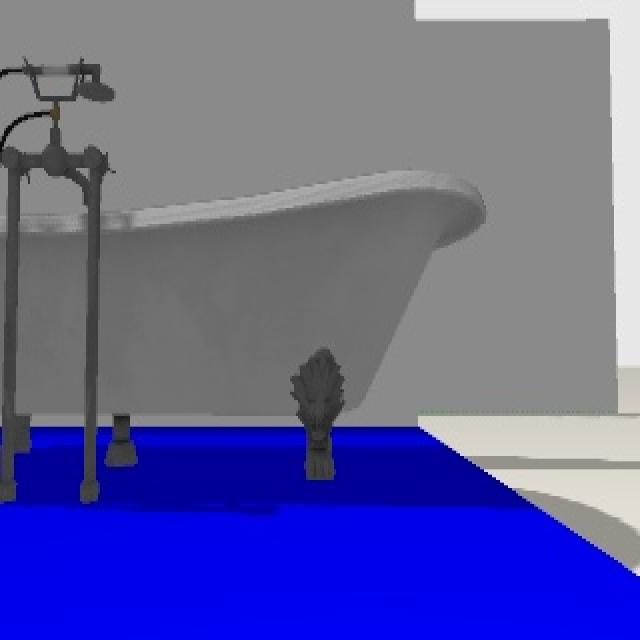bathtub: (0, 60, 492, 504)
